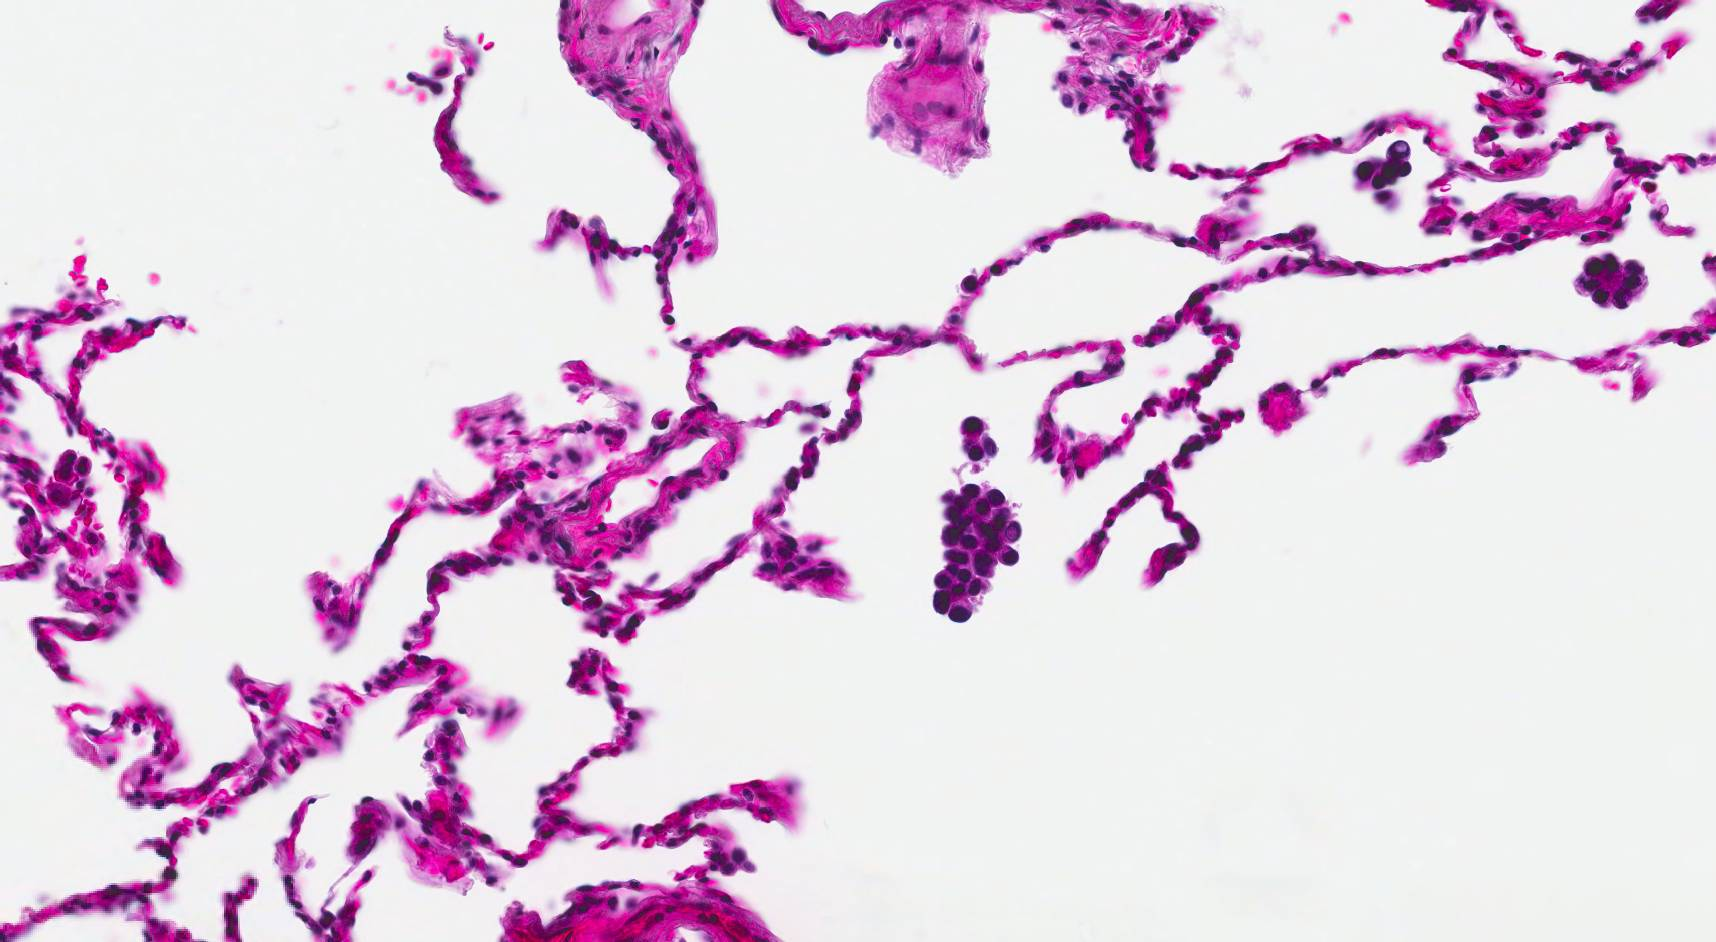stas: (933, 481, 1022, 625), (1571, 250, 1651, 311), (1354, 140, 1416, 210), (957, 413, 999, 466)
